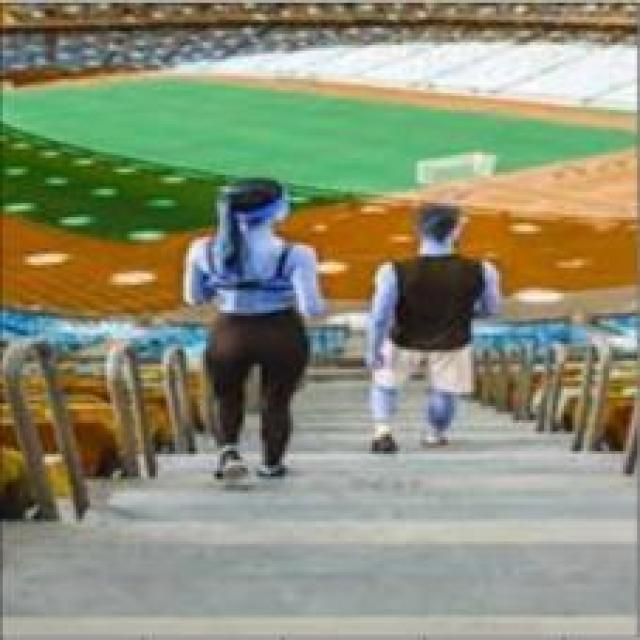stair: (175, 451, 522, 612)
